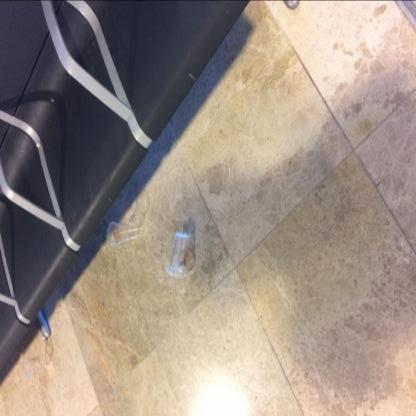Cup: (166, 231, 188, 277), (107, 221, 138, 246)
